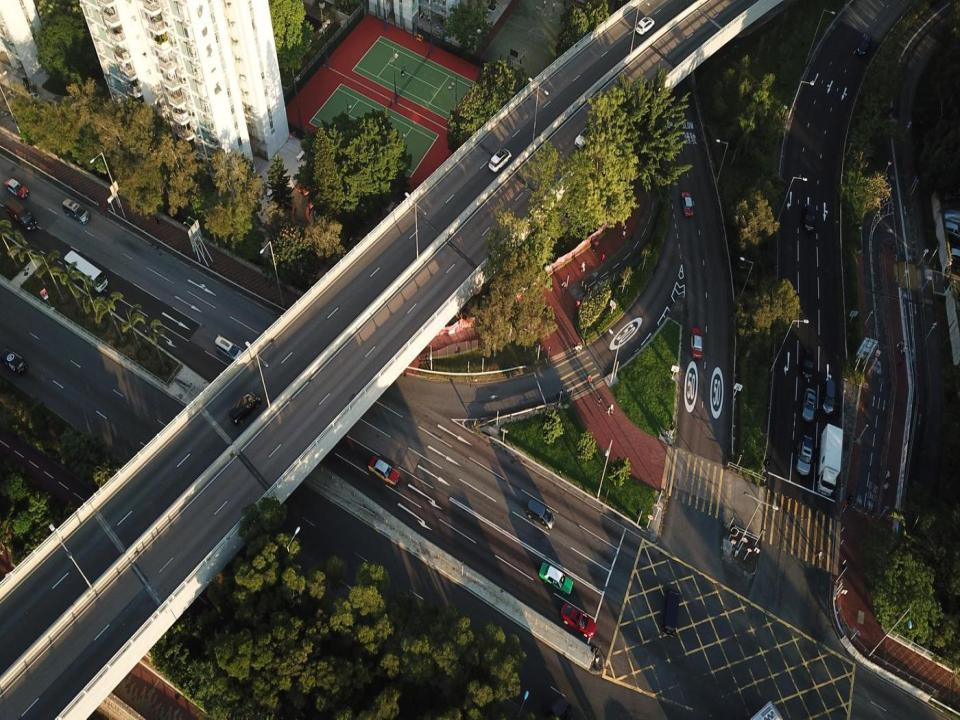bus: (64, 250, 109, 292)
car: (561, 603, 596, 638), (539, 561, 573, 595), (229, 390, 261, 424), (368, 454, 400, 486), (62, 197, 91, 224), (526, 501, 555, 528), (796, 434, 814, 475), (488, 148, 512, 171), (802, 388, 818, 422), (3, 178, 29, 198), (801, 345, 815, 380), (575, 126, 594, 150), (636, 16, 655, 36), (691, 328, 702, 360), (681, 190, 693, 217), (804, 205, 815, 232), (857, 34, 870, 56)
truck: (815, 423, 844, 496), (1, 348, 28, 376)
van: (4, 197, 38, 231), (214, 334, 244, 362), (663, 590, 680, 637), (822, 379, 835, 415)
